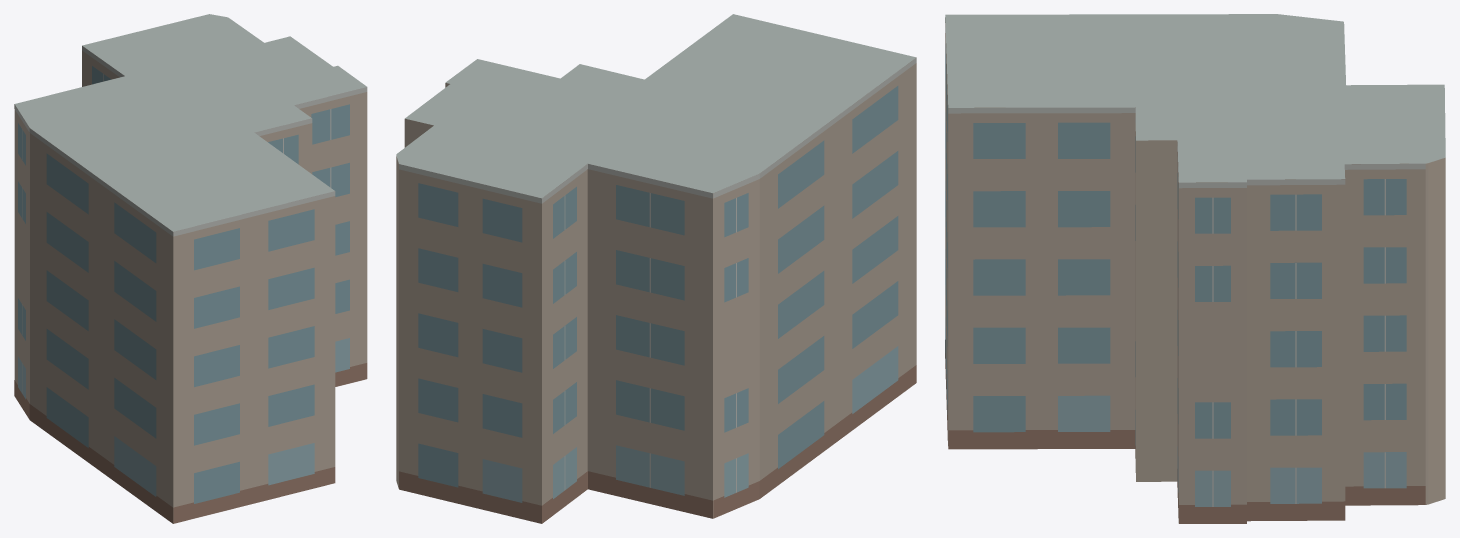
The model's file is survey-upis-32964439.glb.
3 renders of one model, left to right at view 1: azimuth 30°, elevation 25°; view 2: azimuth 150°, elevation 25°; view 3: azimuth 270°, elevation 25°, orthographic. The views are drawn at different scales.
Visible parts, largest first — view 1: survey-upis-32964439.tmp; view 2: survey-upis-32964439.tmp; view 3: survey-upis-32964439.tmp.
Part boxes in pixels (<box>): survey-upis-32964439.tmp: <box>14,14,367,523</box>; survey-upis-32964439.tmp: <box>396,14,916,523</box>; survey-upis-32964439.tmp: <box>945,14,1445,523</box>.
Size of the model in its own units: 15.57 by 14.7 by 19.54.
